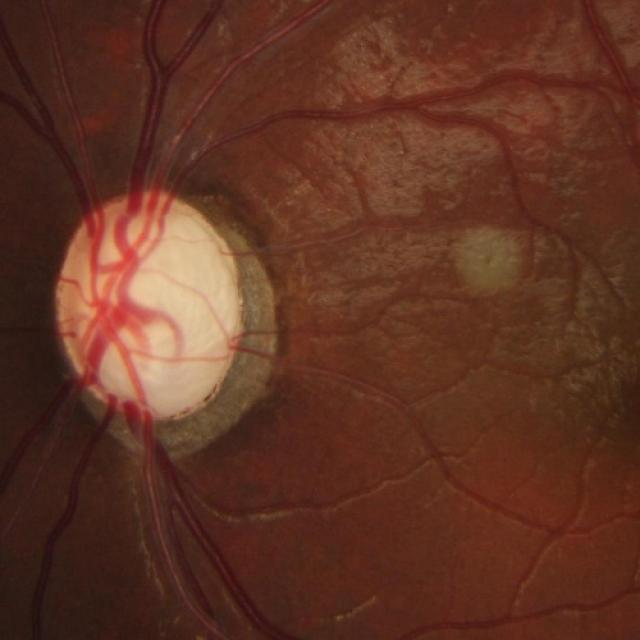OC: (76, 209, 230, 413)
OD: (56, 192, 240, 420)
